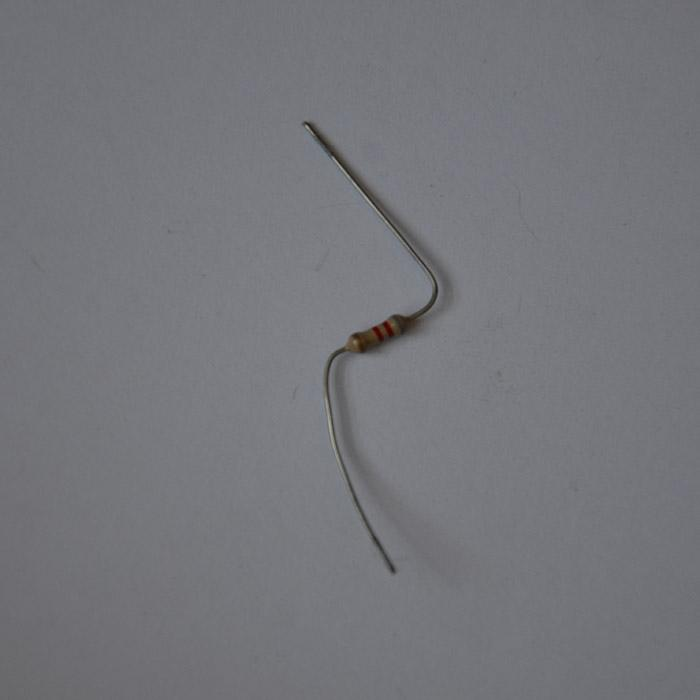resistor: (346, 313, 409, 355)
